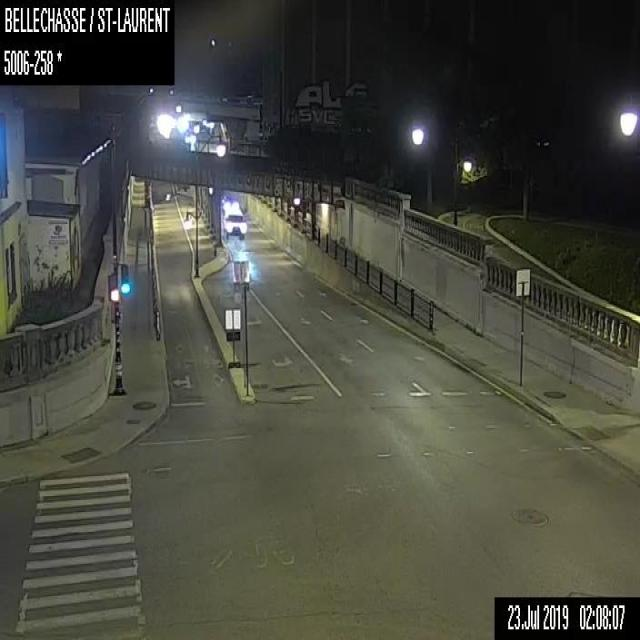vehicle: (223, 206, 246, 238)
